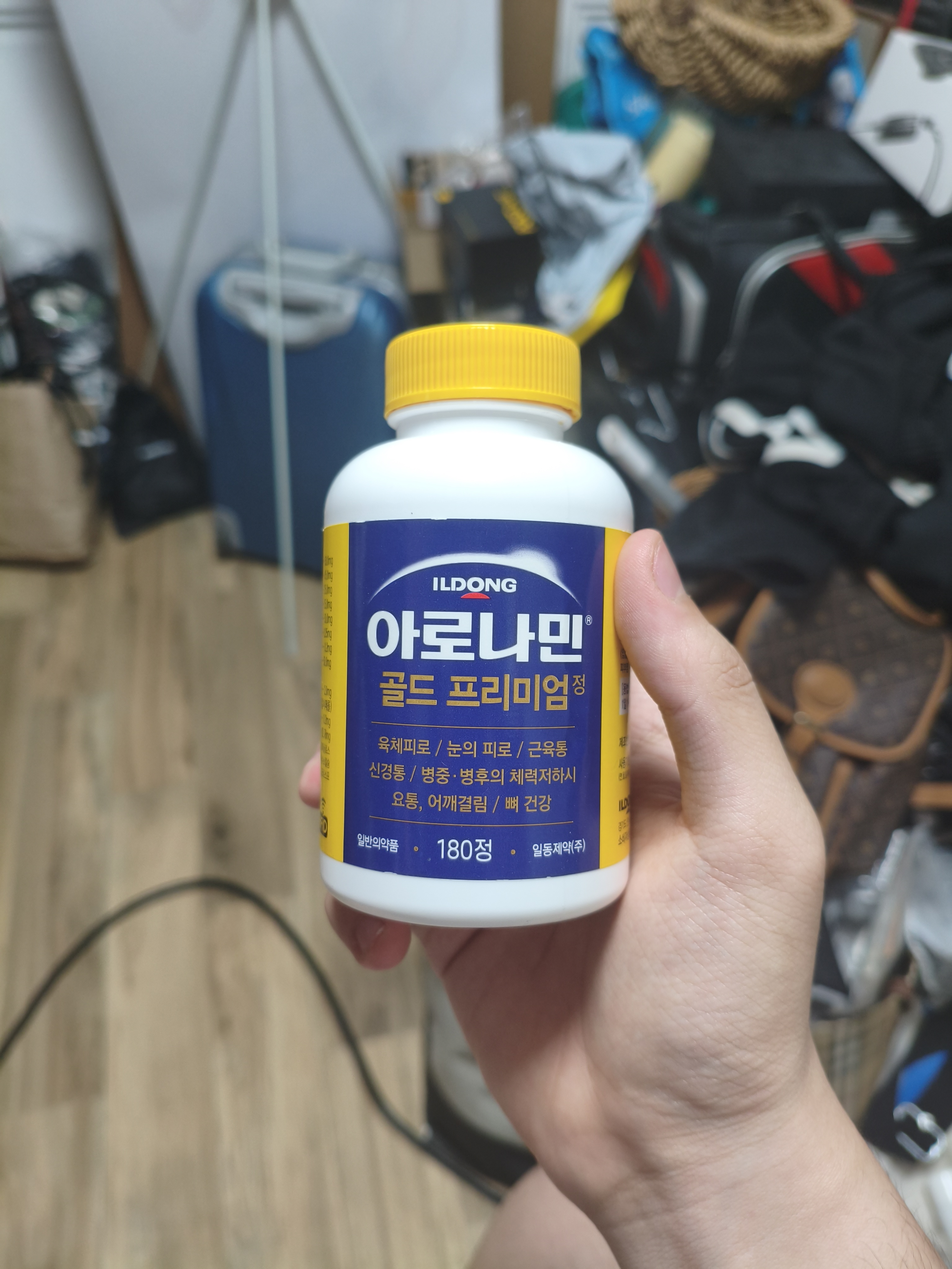supplement_label: (307, 507, 647, 888)
